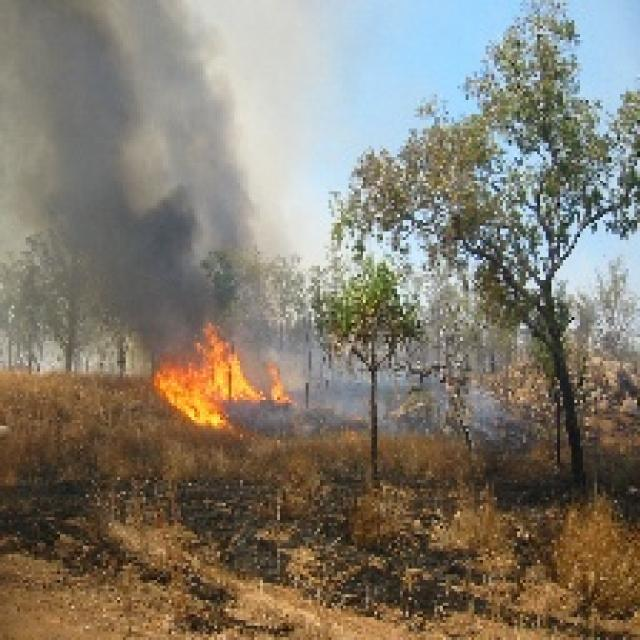Fire: (154, 326, 282, 430)
Smoke: (1, 0, 267, 321)
